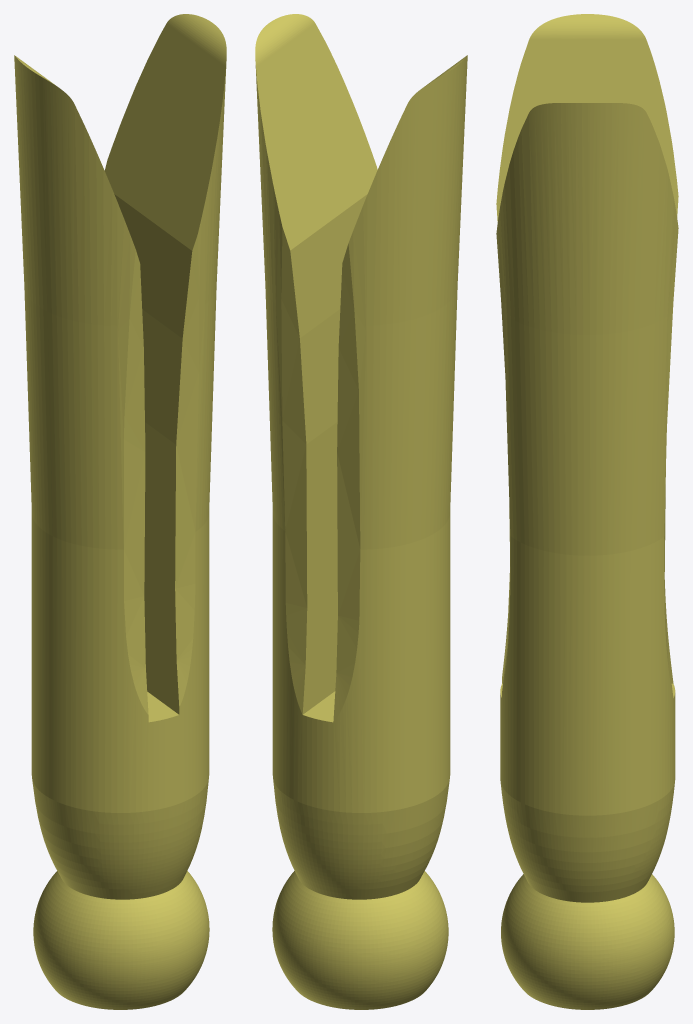
File: clothespin_0.glb
3 renders of one model, left to right at view 1: azimuth 30°, elevation 25°; view 2: azimuth 150°, elevation 25°; view 3: azimuth 270°, elevation 25°, orthographic.
Parts seen in each view (by area): view 1: world; view 2: world; view 3: world.
Part boxes in pixels (x1,y1,x2,y2): world: (14, 14, 226, 1009); world: (255, 14, 467, 1009); world: (496, 14, 678, 1009).
Bounding box in the file's own units: 0.000519 × 0.00251 × 0.000449.
